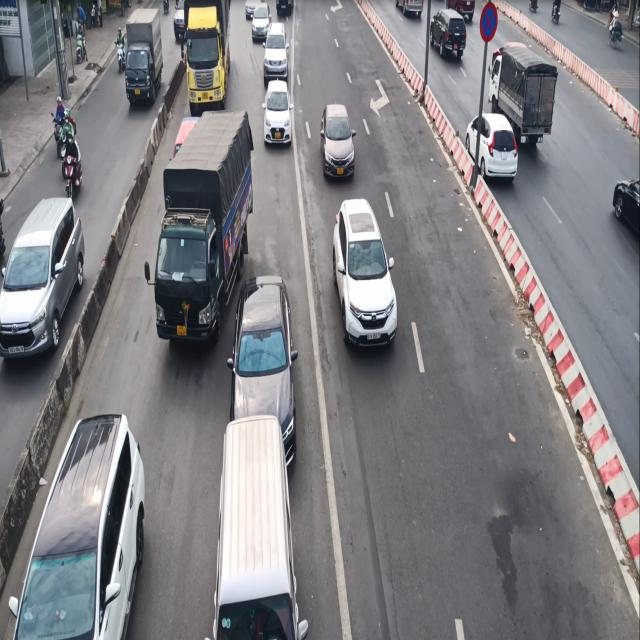car: (4, 401, 152, 640), (0, 188, 96, 368), (230, 268, 300, 450), (332, 199, 404, 362), (317, 99, 359, 189), (260, 77, 300, 157)
motor: (111, 23, 127, 82)
truck: (158, 108, 255, 357), (124, 4, 168, 111)
